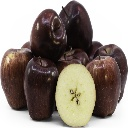apple: (55, 62, 96, 128)
